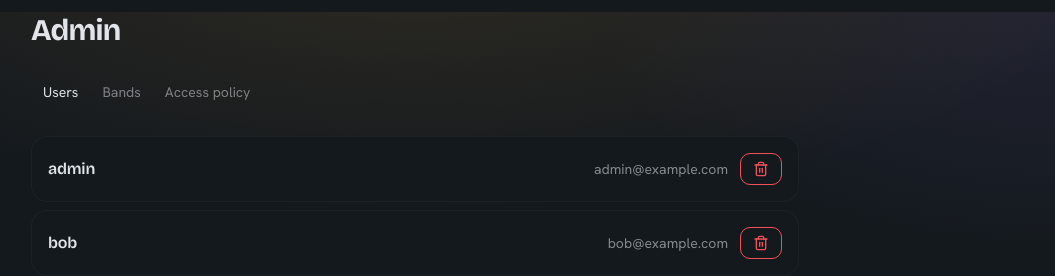
AdminPage › lists bands on the Bands tab
Click the tab "Bands" at (122, 92), box [90, 72, 153, 112]
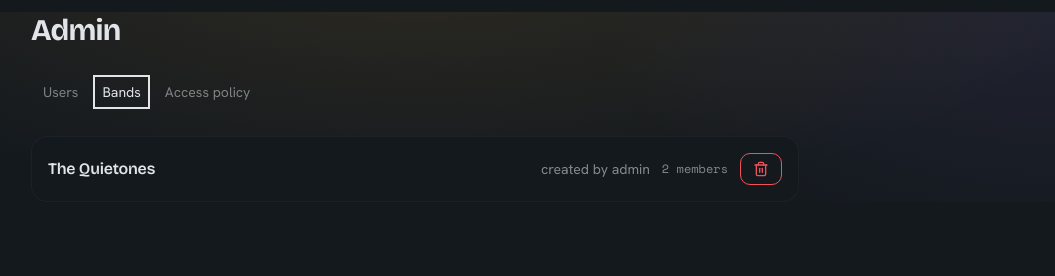
Check: the text "The Quietones" is shown, box [48, 159, 155, 178]
Check: the text "created by admin" is shown, box [541, 159, 650, 179]
